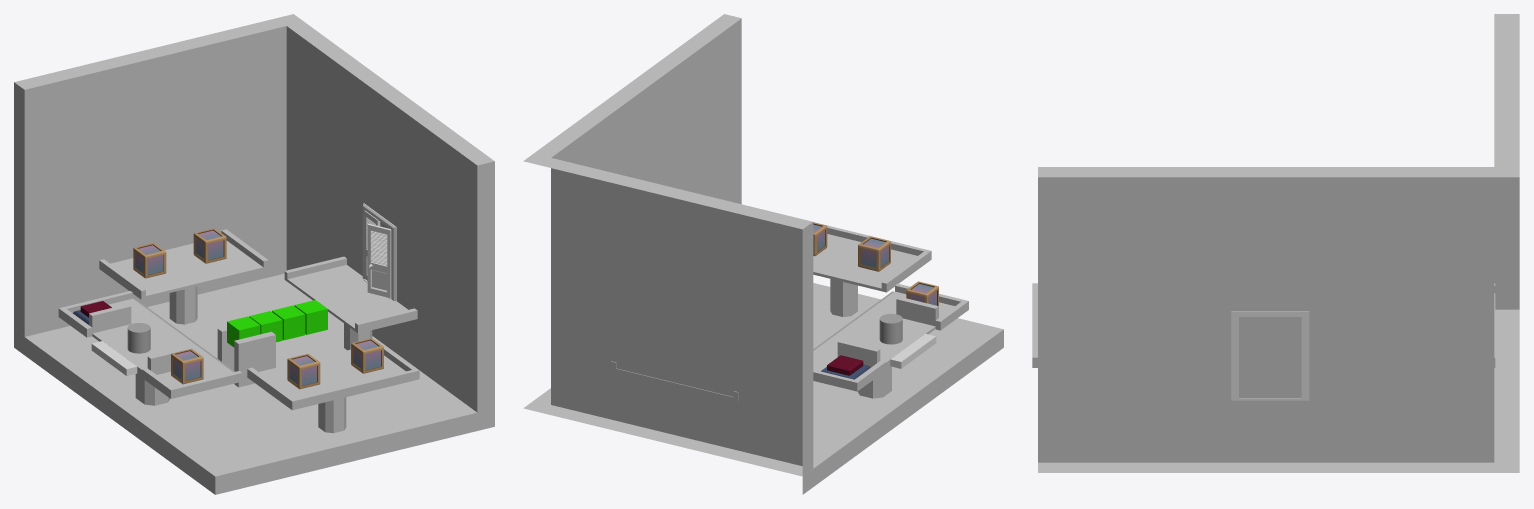
The model's file is Level3v2.fbx.
3 renders of one model, left to right at view 1: azimuth 30°, elevation 25°; view 2: azimuth 150°, elevation 25°; view 3: azimuth 270°, elevation 25°, orthographic. The views are drawn at different scales.
Parts seen in each view (by area): view 1: wallLeft, polySurface13, voidWall, platform, platform2, platform1, platform3, door, HoldGuide2, edge4, boxEdgy2, boxEdgy5 (+18 smaller); view 2: wallLeft, polySurface13, voidWall, platform1, platform3, boxEdgy2, edge10, edge13, BoxButtonStatic, doorEntrance, edge4, playerPos (+2 smaller); view 3: polySurface13, voidWall, wallLeft, door.
Boxes of the visible parts, <box> form: wallLeft: <box>14,14,293,336</box>; polySurface13: <box>286,14,494,412</box>; voidWall: <box>14,273,494,494</box>; platform: <box>110,241,263,324</box>; platform2: <box>287,265,407,350</box>; platform1: <box>92,298,232,405</box>; platform3: <box>259,349,405,433</box>; door: <box>362,203,396,301</box>; HoldGuide2: <box>234,331,275,387</box>; edge4: <box>290,369,419,410</box>; boxEdgy2: <box>287,354,320,389</box>; boxEdgy5: <box>193,228,226,263</box>; wallLeft: <box>524,158,813,475</box>; polySurface13: <box>523,14,741,204</box>; voidWall: <box>523,283,1003,494</box>; platform1: <box>813,291,954,398</box>; platform3: <box>813,234,917,316</box>; boxEdgy2: <box>858,236,890,271</box>; edge10: <box>896,297,938,326</box>; edge13: <box>837,339,880,367</box>; BoxButtonStatic: <box>821,355,870,379</box>; doorEntrance: <box>890,333,936,368</box>; edge4: <box>813,222,931,260</box>; playerPos: <box>879,313,902,344</box>; polySurface13: <box>1038,167,1518,462</box>; voidWall: <box>1038,309,1519,472</box>; wallLeft: <box>1494,14,1519,309</box>; door: <box>1231,311,1309,400</box>.
Size of the model in its own units: 17.14 by 14.99 by 20.83.
